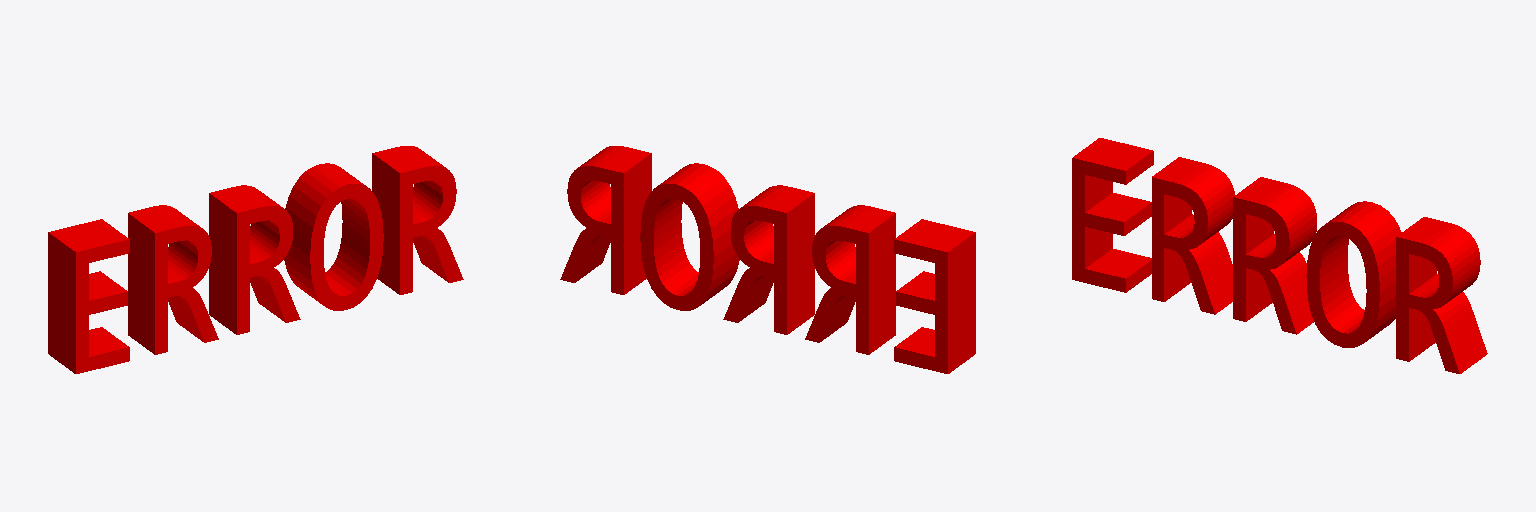
3 renders of one model, left to right at view 1: azimuth 30°, elevation 25°; view 2: azimuth 150°, elevation 25°; view 3: azimuth 330°, elevation 25°, orthographic.
Parts seen in each view (by area): view 1: error; view 2: error; view 3: error.
Boxes of the visible parts, box(x1,y1,x2,y2) form: error: box(48, 146, 463, 373); error: box(560, 146, 975, 373); error: box(1072, 138, 1487, 373).
Bounding box in the file's own units: 4.05 × 1.25 × 0.5018.
Materials: 1 (1 with a texture image).